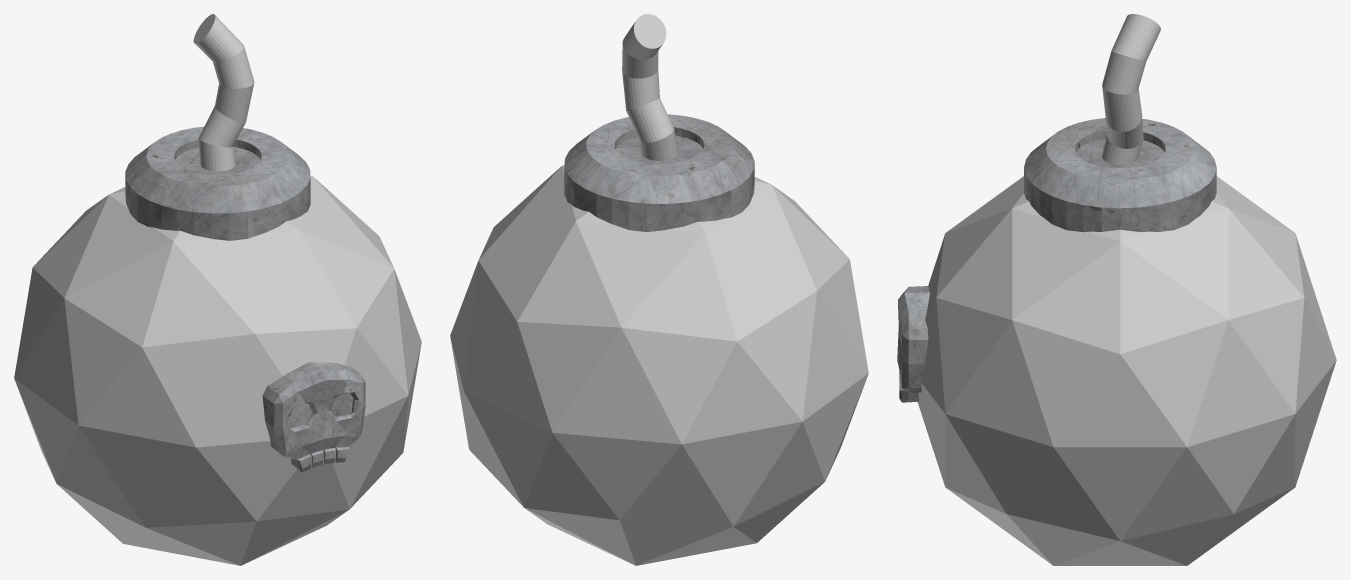
Rendered from bomb.fbx.
3 renders of one model, left to right at view 1: azimuth 30°, elevation 25°; view 2: azimuth 150°, elevation 25°; view 3: azimuth 270°, elevation 25°, orthographic. The views are drawn at different scales.
Parts seen in each view (by area): view 1: Icosphere; view 2: Icosphere; view 3: Icosphere.
Boxes of the visible parts, x1=… form: Icosphere: x1=14, y1=14, x2=421, y2=565; Icosphere: x1=450, y1=14, x2=868, y2=565; Icosphere: x1=897, y1=14, x2=1336, y2=565.
Size of the model in its own units: 190 by 278 by 203.
